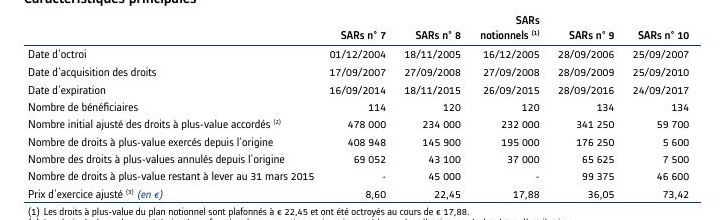table: (0, 0, 727, 220)
